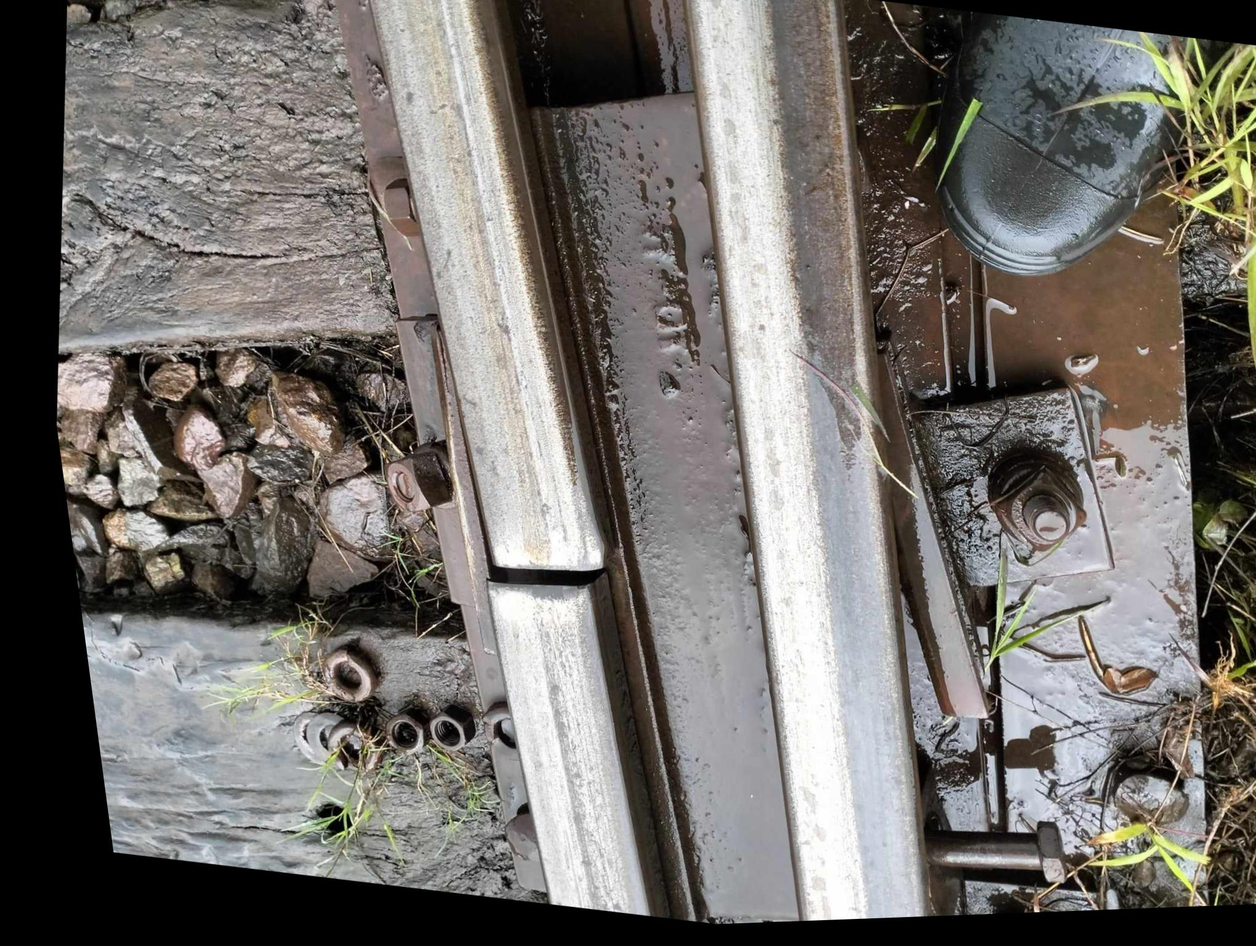person: (415, 475, 644, 678)
